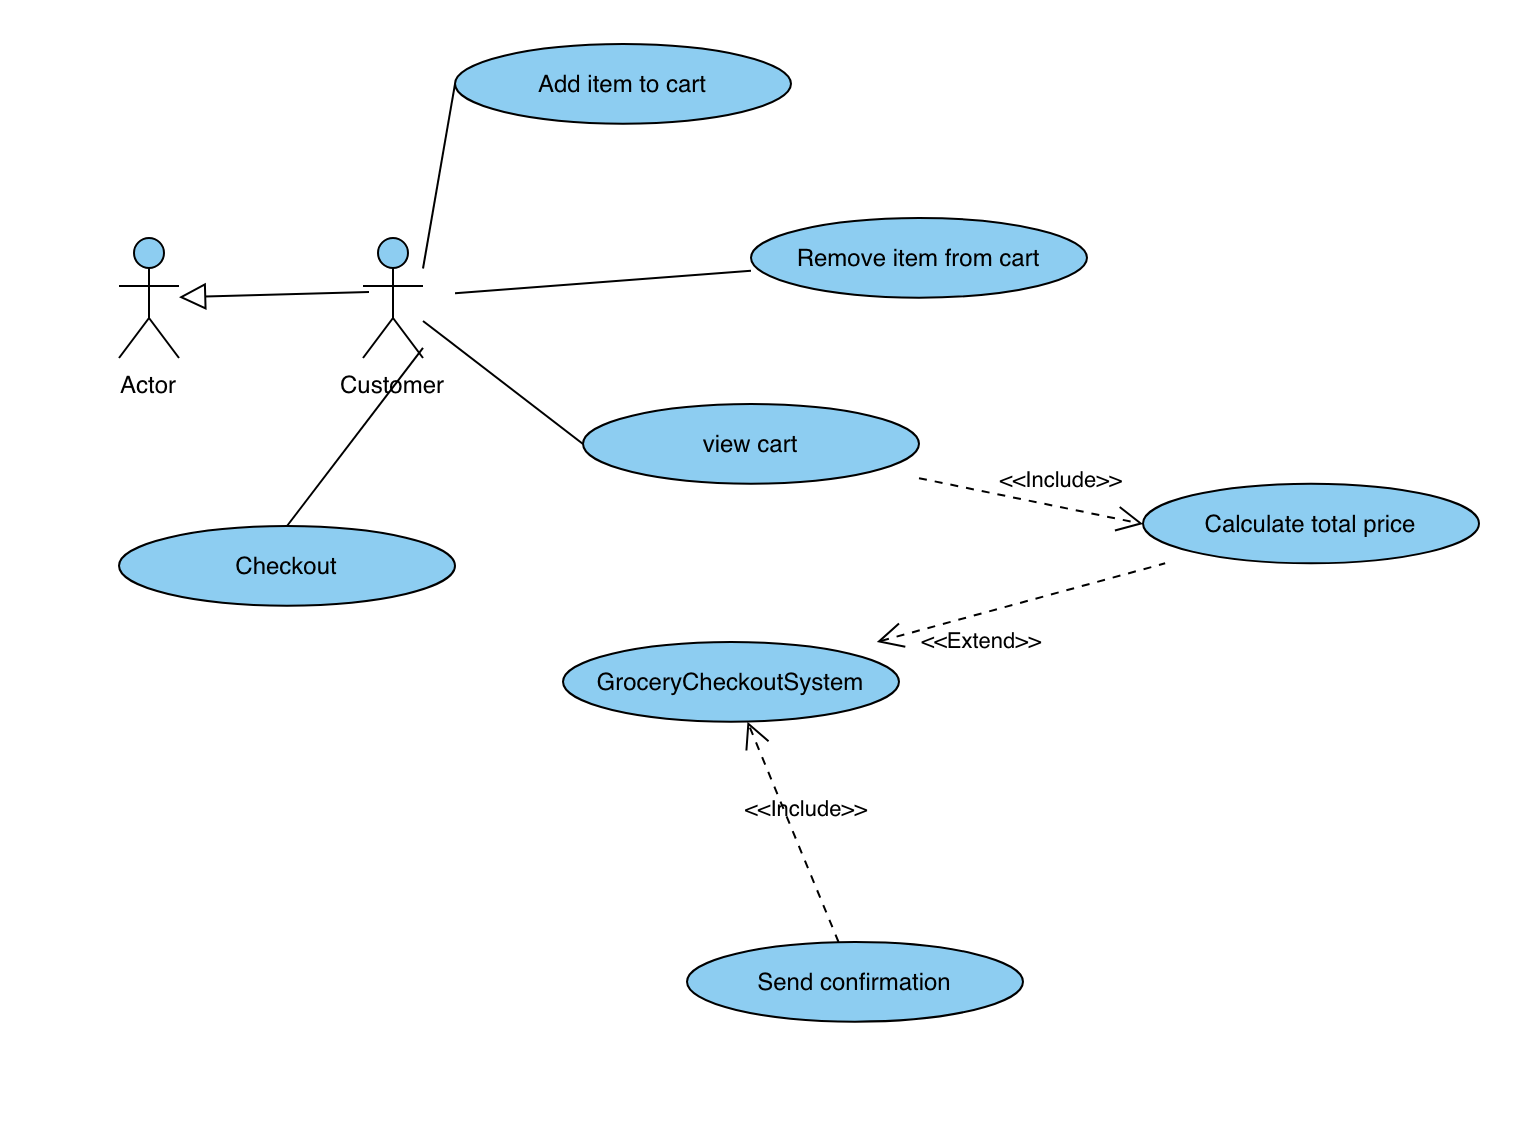actor: (117, 232, 184, 367), (362, 233, 424, 360)
association: (879, 559, 1171, 645), (287, 344, 422, 523), (742, 722, 847, 940), (420, 318, 581, 443), (916, 472, 1145, 536), (452, 268, 753, 300), (416, 87, 458, 272)
generalization: (181, 280, 369, 309)
text: (788, 244, 1056, 279), (594, 665, 868, 697), (739, 963, 967, 999), (1202, 506, 1437, 541), (536, 69, 722, 100), (690, 422, 821, 462), (918, 620, 1044, 655), (737, 795, 881, 827), (335, 368, 451, 403), (1002, 464, 1124, 496), (230, 550, 346, 583), (112, 366, 192, 400)
use_case: (450, 39, 794, 129), (116, 522, 460, 611), (561, 638, 902, 727), (1137, 480, 1480, 568), (577, 401, 922, 488), (685, 940, 1026, 1028), (747, 215, 1089, 301)
